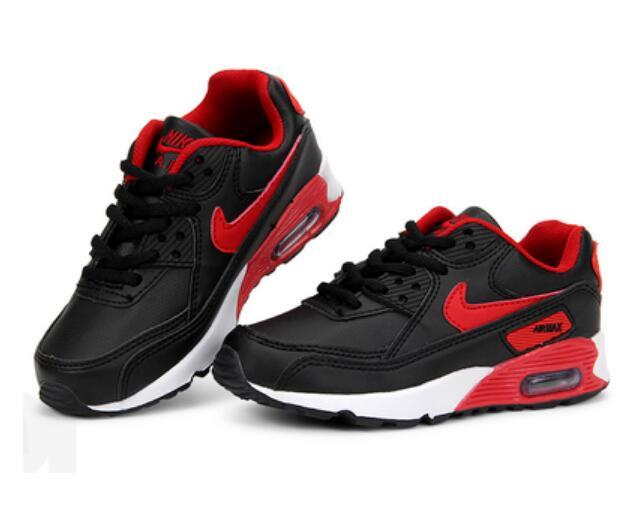nike: (209, 140, 302, 252), (438, 276, 559, 334)
